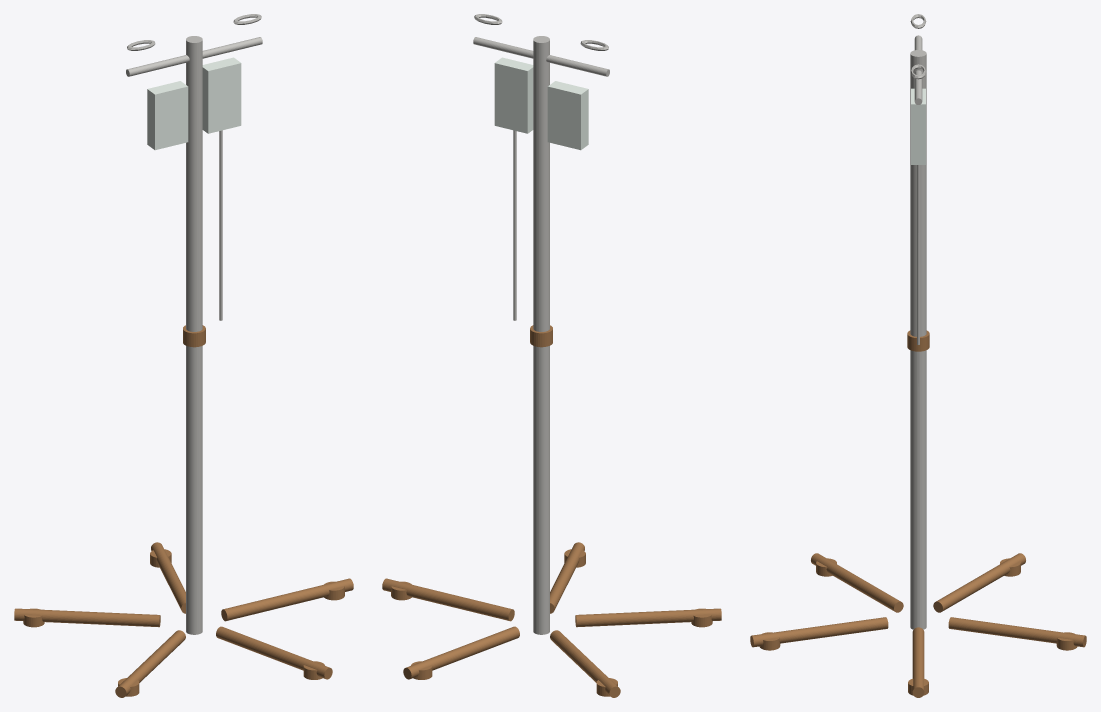
File: prop_iv_stand_v2.fbx
3 renders of one model, left to right at view 1: azimuth 30°, elevation 25°; view 2: azimuth 150°, elevation 25°; view 3: azimuth 270°, elevation 25°, orthographic. The views are drawn at different scales.
Parts seen in each view (by area): view 1: IV_Pole, IV_Bag1, IV_Bag2, IV_Leg2, IV_Leg0, IV_Leg4, IV_Leg3, IV_Bar, IV_Leg1, IV_Tube; view 2: IV_Pole, IV_Bag1, IV_Bag2, IV_Leg3, IV_Leg0, IV_Leg1, IV_Leg2, IV_Bar, IV_Leg4, IV_Tube; view 3: IV_Pole, IV_Leg1, IV_Leg4, IV_Leg2, IV_Leg3, IV_Bag1, IV_Leg0, IV_Tube.
Boxes of the visible parts, x1,y1,x2,y2 form: IV_Pole: (186,36,202,634); IV_Bag1: (202,57,241,133); IV_Bag2: (147,81,188,150); IV_Leg2: (14,608,160,627); IV_Leg0: (221,578,353,621); IV_Leg4: (216,626,332,679); IV_Leg3: (115,630,185,697); IV_Bar: (126,37,262,76); IV_Leg1: (151,542,185,613); IV_Tube: (219,130,222,320); IV_Pole: (533,36,549,634); IV_Bag1: (494,57,533,133); IV_Bag2: (547,81,588,150); IV_Leg3: (575,608,721,627); IV_Leg0: (382,578,514,621); IV_Leg1: (403,626,519,679); IV_Leg2: (550,630,620,697); IV_Bar: (473,37,609,76); IV_Leg4: (550,542,584,613); IV_Tube: (513,130,516,320); IV_Pole: (910,50,926,629); IV_Leg1: (948,617,1086,647); IV_Leg4: (750,617,888,647); IV_Leg2: (933,553,1025,612); IV_Leg3: (811,553,903,612); IV_Bag1: (911,88,925,164); IV_Leg0: (912,627,924,697); IV_Tube: (917,165,919,344).
Size of the model in its own units: 85.96 by 172 by 90.39.
